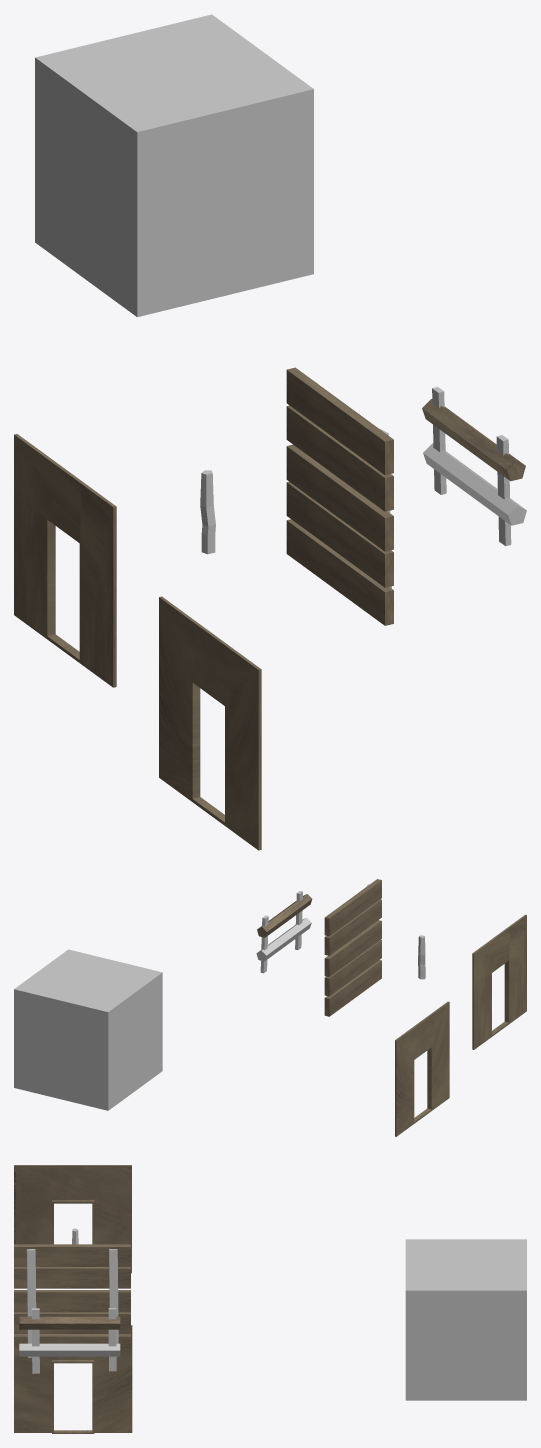
The model's file is crooked_wooken_pole.obj.
3 views of the same model, one above another, from view 1: azimuth 30°, elevation 25°; view 2: azimuth 150°, elevation 25°; view 3: azimuth 270°, elevation 25° (orthographic). The views are drawn at different scales.
Visible parts, largest first — view 1: Cube.001, Cube.002, Cube, Cube.007, Cube.005, Cube.006, Cube.004, Cube.003, Cylinder, Cylinder.001, Cylinder.002; view 2: Cube.001, Cube.002, Cube, Cube.007, Cube.005, Cube.006, Cube.004, Cube.003, Cylinder.001, Cylinder, Cylinder.002; view 3: Cube.001, Cube.002, Cube, Cube.007, Cube.005, Cube.004, Cylinder, Cylinder.001, Cube.006, Cube.003, Cube.008, Cube.009 (+2 smaller).
Boxes of the visible parts, box(x1,y1,x2,y2) form: Cube.001: box(35, 14, 313, 317); Cube.002: box(14, 434, 116, 687); Cube: box(159, 596, 261, 850); Cube.007: box(286, 367, 393, 475); Cube.005: box(286, 444, 393, 551); Cube.006: box(286, 519, 393, 625); Cube.004: box(286, 405, 393, 511); Cube.003: box(286, 481, 393, 587); Cylinder: box(422, 399, 525, 481); Cylinder.001: box(423, 443, 526, 525); Cylinder.002: box(200, 470, 215, 554); Cube.001: box(14, 949, 162, 1110); Cube.002: box(472, 914, 526, 1049); Cube: box(395, 1001, 449, 1136); Cube.007: box(324, 879, 381, 936); Cube.005: box(324, 920, 381, 977); Cube.006: box(324, 960, 381, 1016); Cube.004: box(324, 899, 381, 955); Cube.003: box(324, 940, 381, 996); Cylinder.001: box(256, 917, 311, 961); Cylinder: box(257, 894, 312, 937); Cylinder.002: box(418, 935, 425, 979); Cube.001: box(405, 1239, 526, 1400); Cube.002: box(14, 1165, 131, 1273); Cube: box(14, 1325, 132, 1433); Cube.007: box(14, 1244, 130, 1266); Cube.005: box(14, 1290, 130, 1312); Cube.004: box(14, 1267, 130, 1288); Cylinder: box(19, 1316, 120, 1329); Cylinder.001: box(19, 1343, 120, 1356); Cube.006: box(14, 1334, 130, 1356); Cube.003: box(14, 1312, 130, 1333); Cube.008: box(26, 1249, 36, 1357); Cube.009: box(109, 1249, 118, 1356).
Size of the model in its own units: 22.24 by 17.08 by 31.36.
